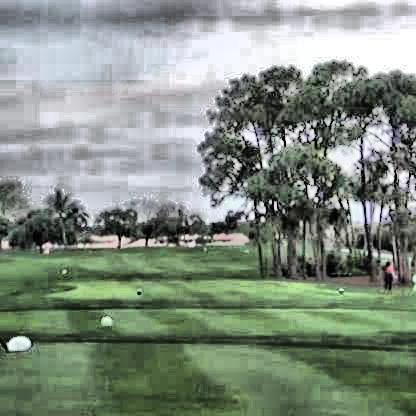golfball: (98, 314, 112, 326)
